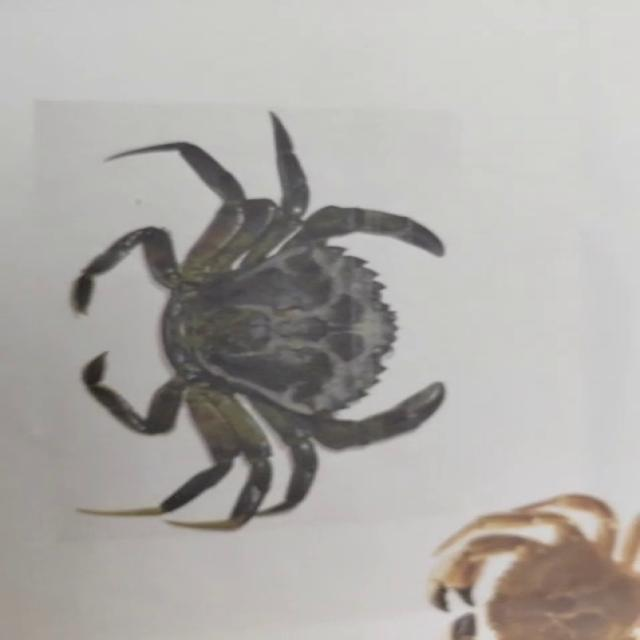egc: (72, 112, 443, 529)
